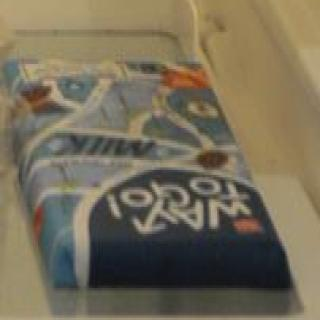chocolate: (1, 0, 320, 320)
